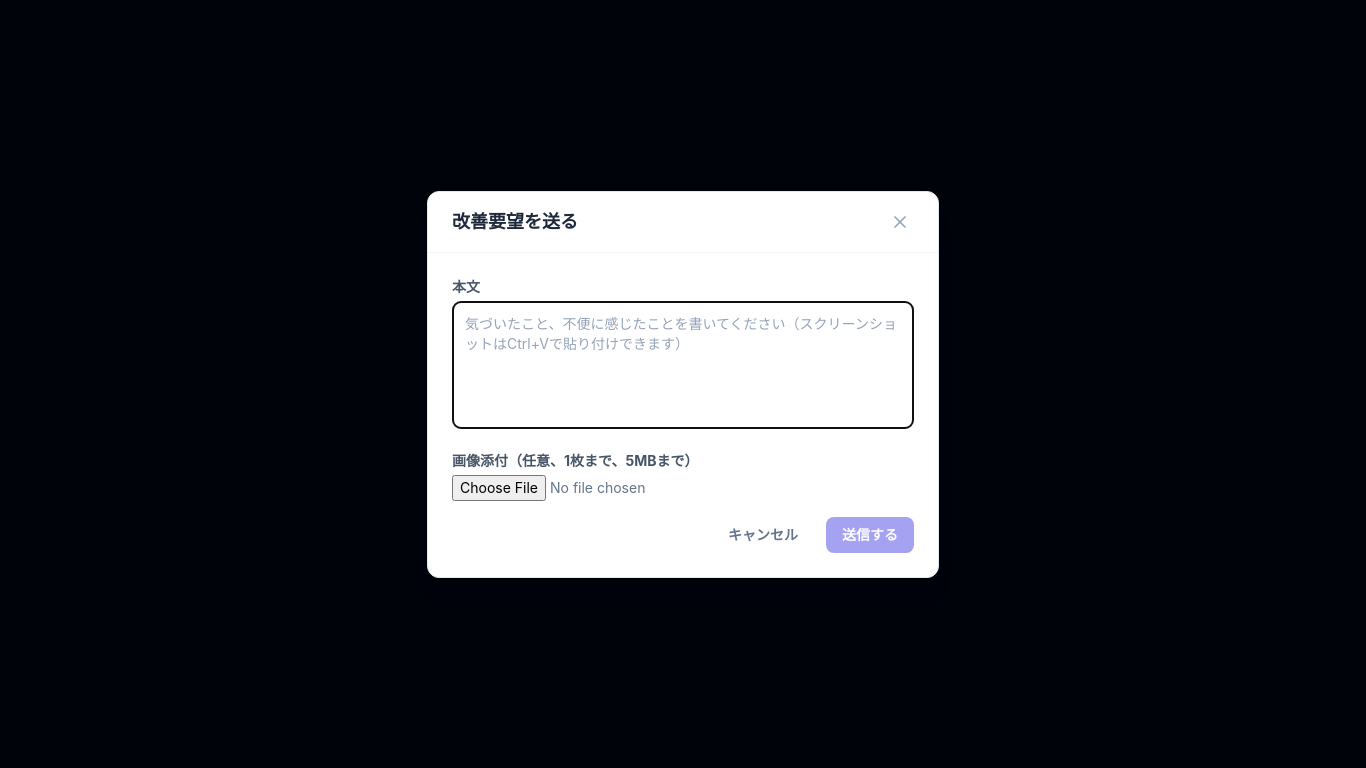
Scenario: ImprovementRequestModal › 送信失敗時はエラーメッセージを表示し、入力内容を保持する(再送可能)
Step 1. Type "失敗するテスト" into the text box labelled "本文" → x=683, y=364, box 452,300 -> 914,428
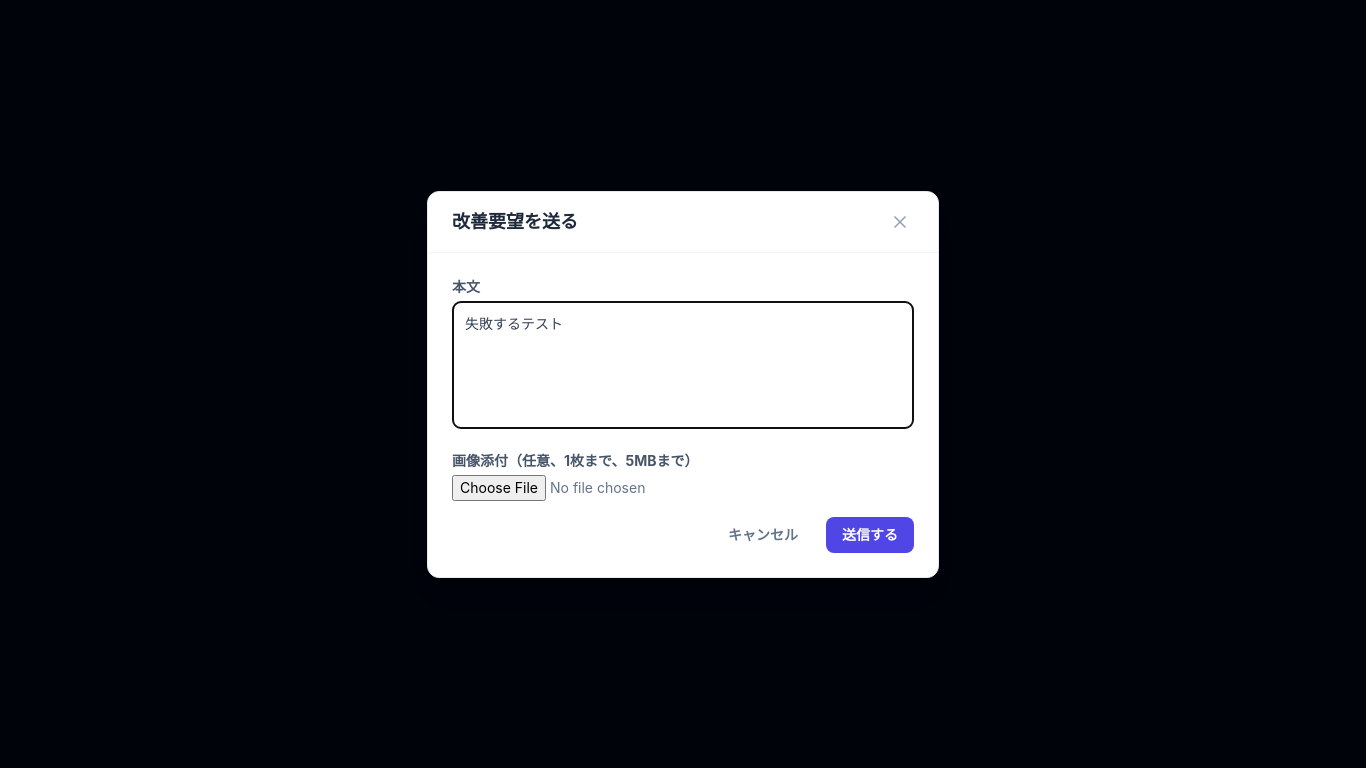
Step 2. Click the button "送信する" → x=870, y=534, box 826,516 -> 914,552
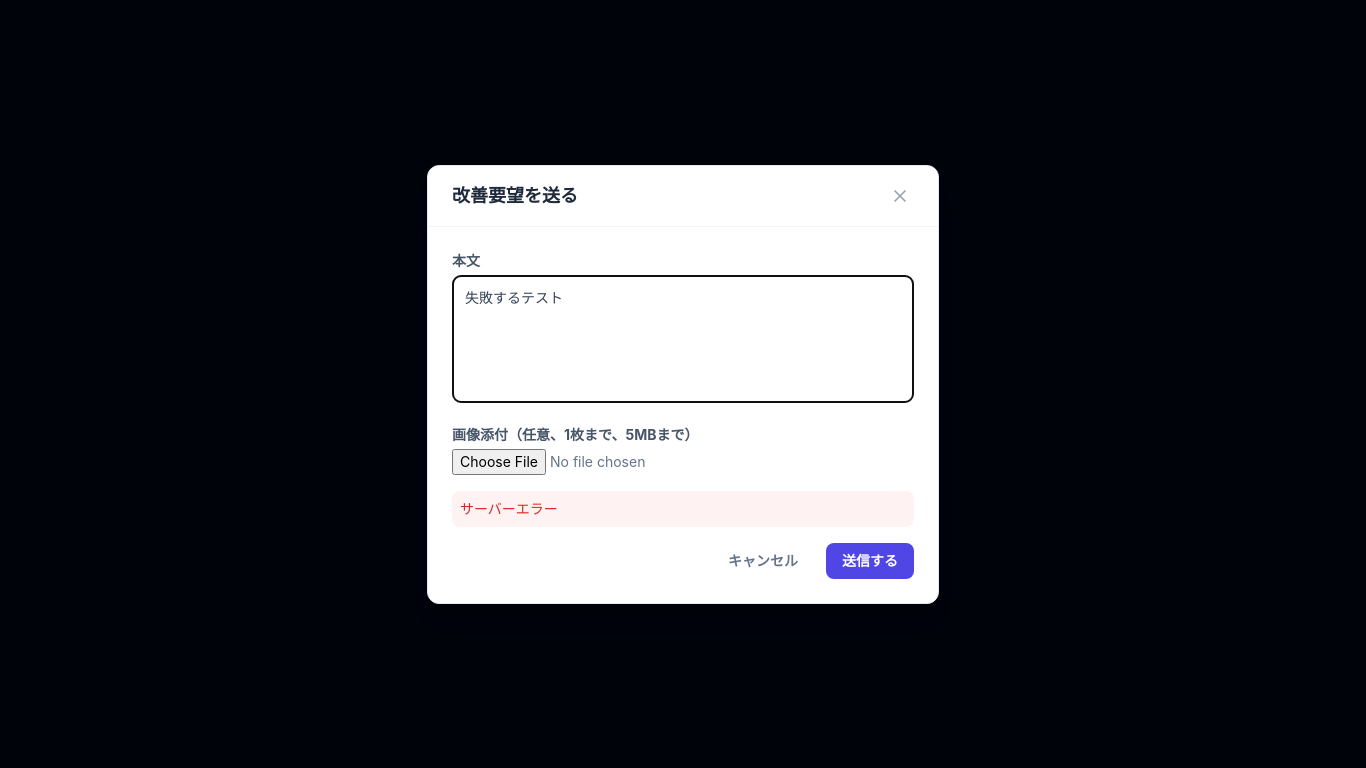
Now the button "送信する" is enabled, box 826,542 -> 914,578
Now the message reads "サーバーエラー", box 460,500 -> 558,516
